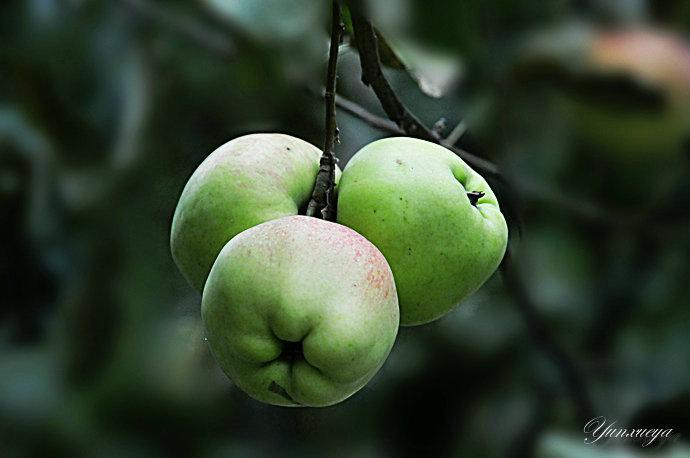apple: (202, 213, 397, 411), (327, 136, 510, 330), (167, 131, 326, 300)
